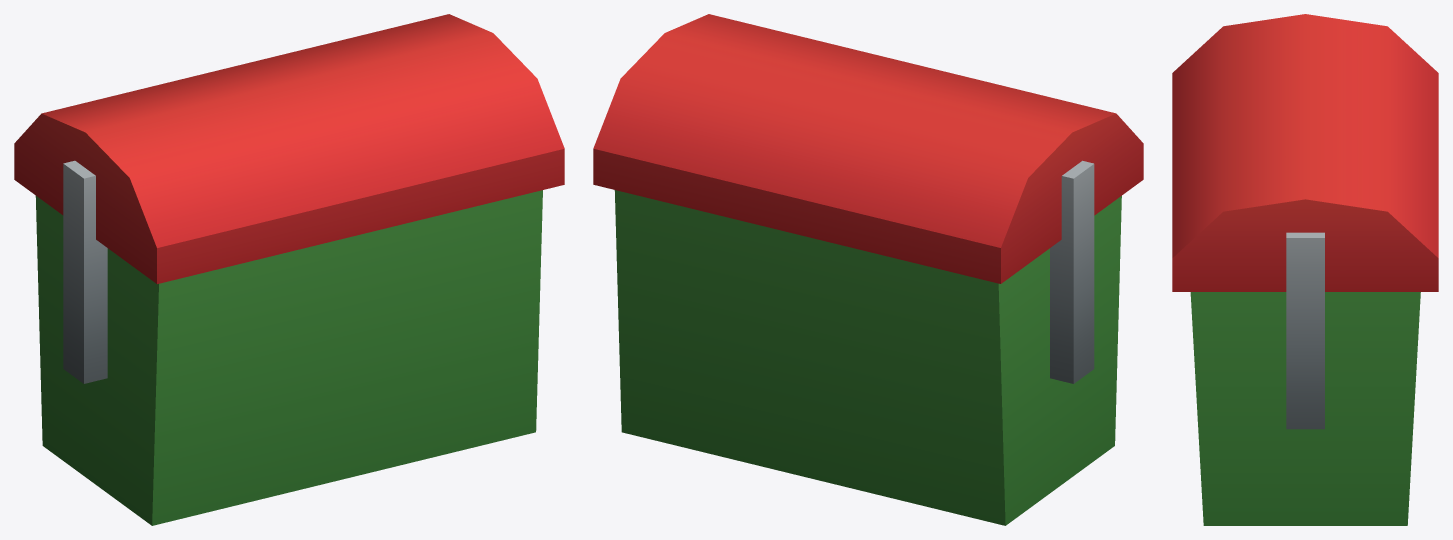
File: Trash_Can_04.glb
The picture shows the model from 3 angles, left to right: view 1: azimuth 30°, elevation 25°; view 2: azimuth 150°, elevation 25°; view 3: azimuth 270°, elevation 25°; orthographic projection. The views are drawn at different scales.
Visible parts, largest first — view 1: Trash_Can_04; view 2: Trash_Can_04; view 3: Trash_Can_04.
Boxes of the visible parts, left/top/right/bottom form: Trash_Can_04: left=14, top=14, right=564, bottom=525; Trash_Can_04: left=593, top=14, right=1143, bottom=525; Trash_Can_04: left=1172, top=14, right=1438, bottom=525.
Bounding box in the file's own units: 2.08 × 1.65 × 1.2.
Materials: 1 (1 with a texture image).
